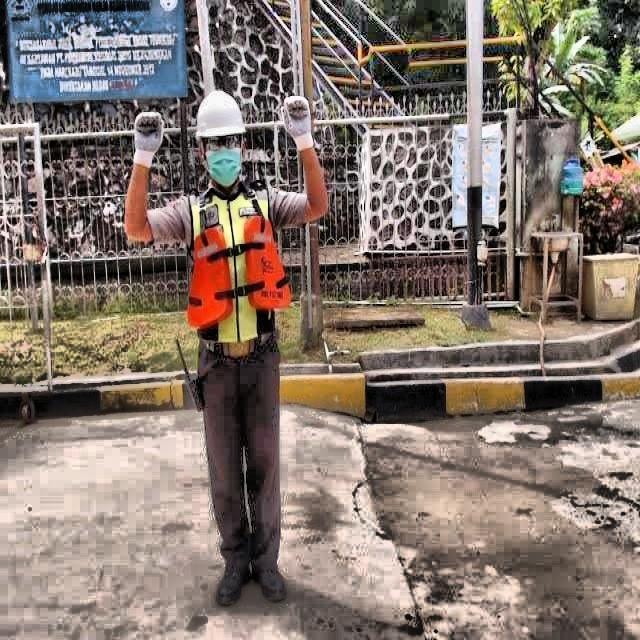safety_helmet: (191, 88, 247, 145)
safety_jacket: (187, 187, 291, 343)
